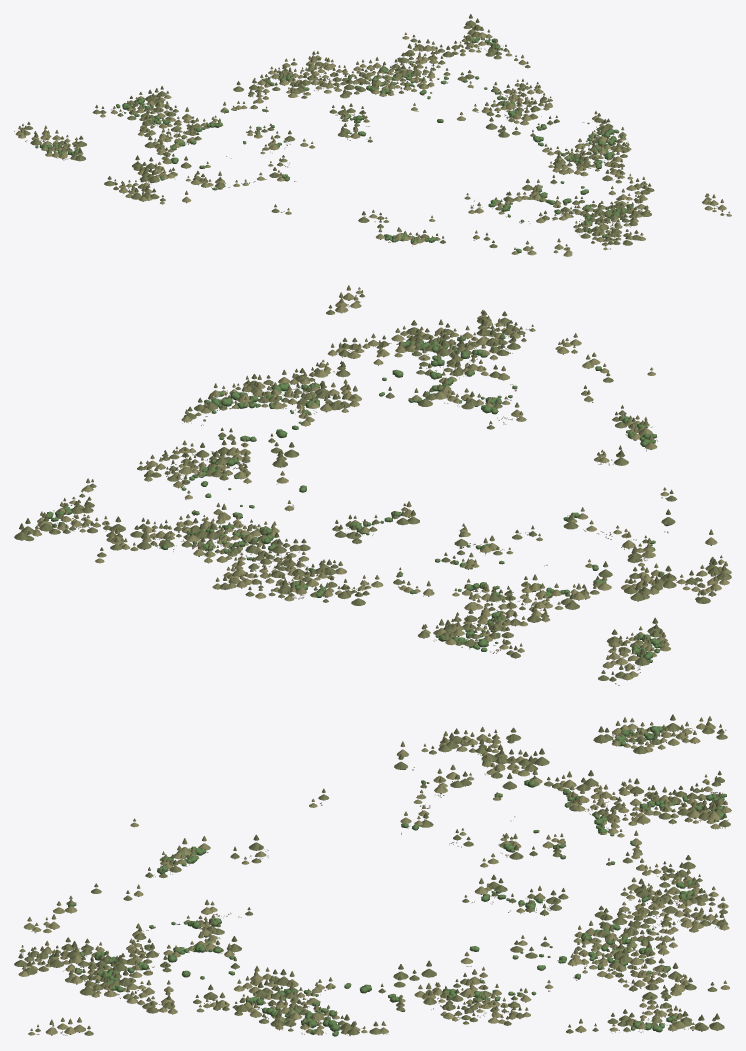
The model's file is Foliage_P1.fbx.
3 renders of one model, top to bottom at view 1: azimuth 30°, elevation 25°; view 2: azimuth 150°, elevation 25°; view 3: azimuth 270°, elevation 25°, orthographic. The views are drawn at different scales.
Size of the model in its own units: 61725 by 4740 by 61798.
